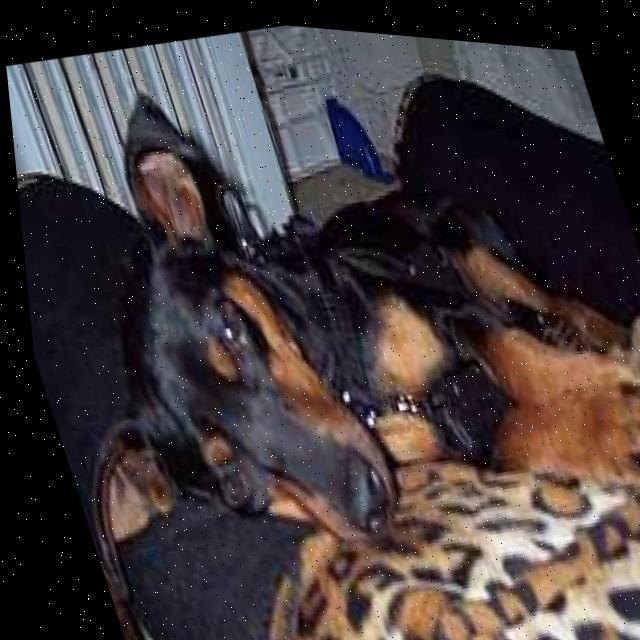dogs: (3, 35, 640, 640)
